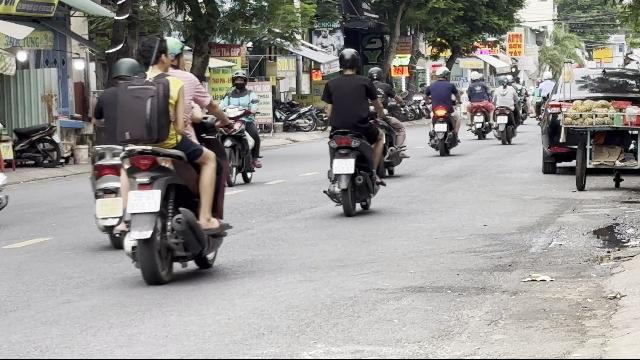helmet: (110, 56, 142, 84), (163, 35, 185, 68), (337, 47, 361, 72), (231, 70, 247, 88)
licenseplate: (128, 190, 160, 212), (96, 198, 122, 218), (332, 159, 354, 173)
motorcyclist: (88, 34, 236, 282), (318, 46, 387, 214), (216, 70, 264, 187)
